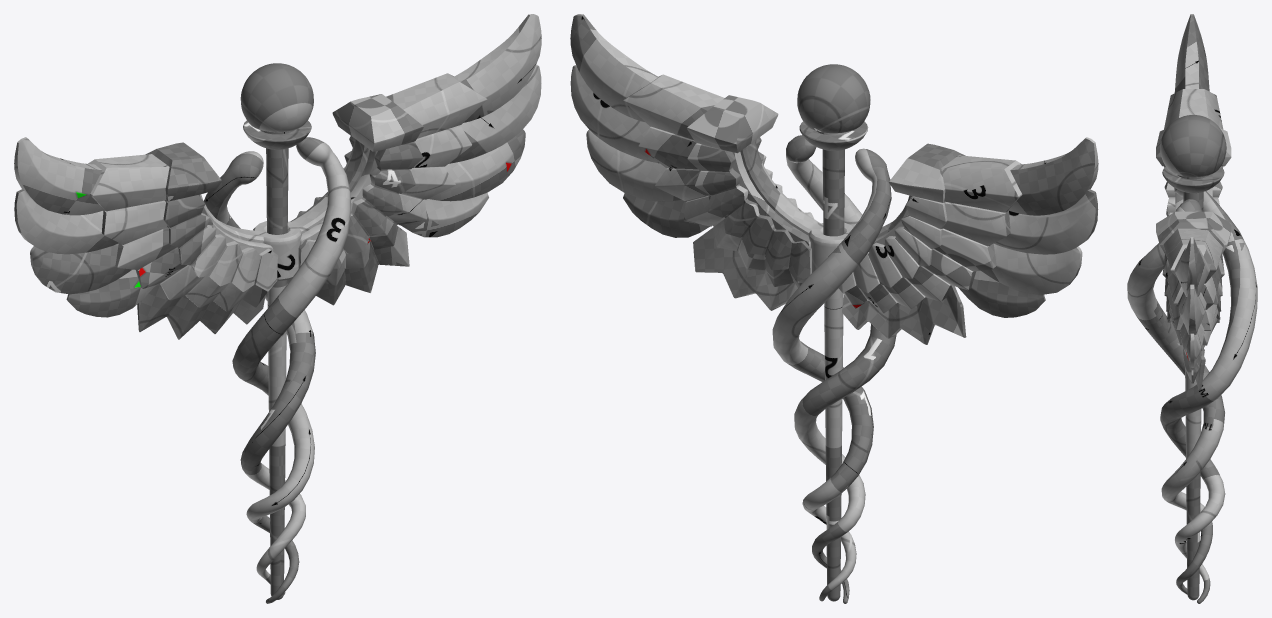
The model's file is Caduceus.fbx.
3 renders of one model, left to right at view 1: azimuth 30°, elevation 25°; view 2: azimuth 150°, elevation 25°; view 3: azimuth 270°, elevation 25°, orthographic. The views are drawn at different scales.
Parts seen in each view (by area): view 1: caduceus; view 2: caduceus; view 3: caduceus.
Boxes of the visible parts, bbox=[...] form: caduceus: bbox=[14, 14, 541, 603]; caduceus: bbox=[570, 14, 1098, 603]; caduceus: bbox=[1127, 14, 1257, 603].
Size of the model in its own units: 1.7 by 1.66 by 0.4053.
Materials: 1 (1 with a texture image).
